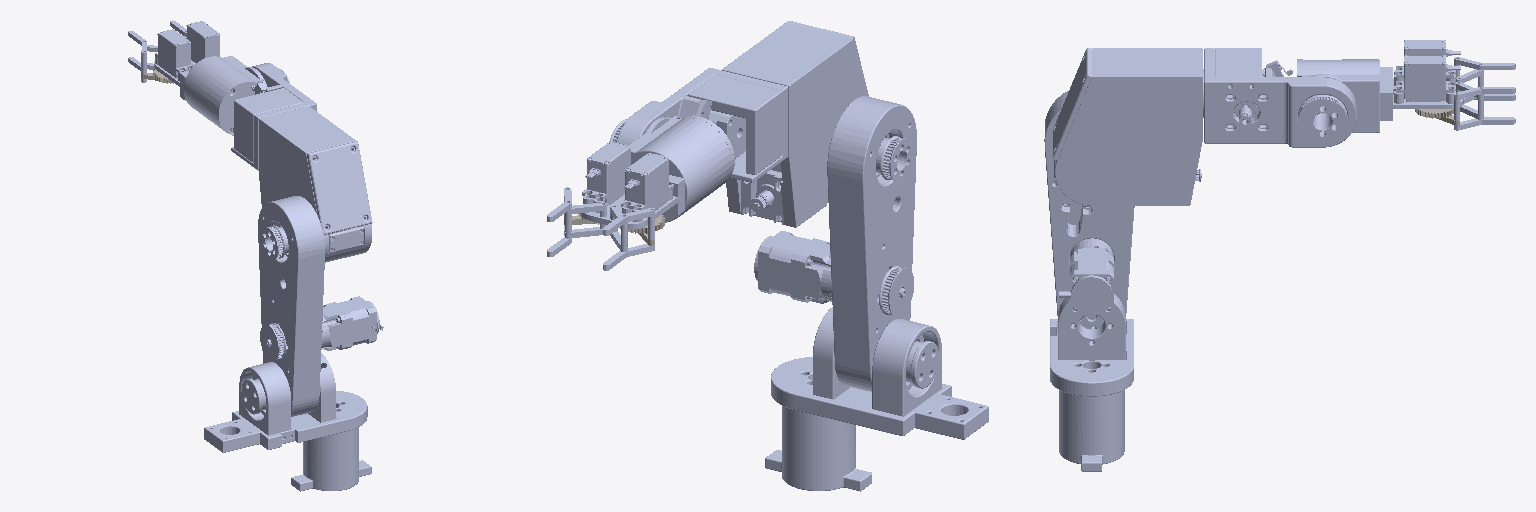
The robot description file, URDF, robot "robot_armV2.SLDASM":
<?xml version="1.0" encoding="utf-8"?>
<!-- This URDF was automatically created by SolidWorks to URDF Exporter! Originally created by [author] ([email redacted]) 
     Commit Version: 1.6.0-4-g7f85cfe  Build Version: 1.6.7995.38578
     For more information, please see http://wiki.ros.org/sw_urdf_exporter -->
<robot
  name="robot_armV2.SLDASM">
  <link
    name="base_link">
    <inertial>
      <origin
        xyz="0.046 0.01 0.0348625258959964"
        rpy="0 0 0" />
      <mass
        value="0.125732513086222" />
      <inertia
        ixx="9.31429511124145E-05"
        ixy="-1.60429614385965E-13"
        ixz="-3.2709602049349E-21"
        iyy="0.000102068899935334"
        iyz="-1.02676782451657E-20"
        izz="9.20244219404304E-05" />
    </inertial>
    <visual>
      <origin
        xyz="0 0 0"
        rpy="0 0 0" />
      <geometry>
        <mesh
          filename="package://robot_armV2.SLDASM/meshes/base_link.STL" />
      </geometry>
      <material
        name="">
        <color
          rgba="0.792156862745098 0.819607843137255 0.933333333333333 1" />
      </material>
    </visual>
    <collision>
      <origin
        xyz="0 0 0"
        rpy="0 0 0" />
      <geometry>
        <mesh
          filename="package://robot_armV2.SLDASM/meshes/base_link.STL" />
      </geometry>
    </collision>
  </link>
  <link
    name="shoulder_link">
    <inertial>
      <origin
        xyz="-0.0411620910620459 0.000253271258416538 0.0895658513453212"
        rpy="0 0 0" />
      <mass
        value="0.3347474320306" />
      <inertia
        ixx="0.000209631793443089"
        ixy="1.96063863395588E-06"
        ixz="-6.65465104917836E-07"
        iyy="0.000480802278455939"
        iyz="-4.71371433584401E-07"
        izz="0.000538877213912492" />
    </inertial>
    <visual>
      <origin
        xyz="0 0 0"
        rpy="0 0 0" />
      <geometry>
        <mesh
          filename="package://robot_armV2.SLDASM/meshes/shoulder_link.STL" />
      </geometry>
      <material
        name="">
        <color
          rgba="0.792156862745098 0.819607843137255 0.933333333333333 1" />
      </material>
    </visual>
    <collision>
      <origin
        xyz="0 0 0"
        rpy="0 0 0" />
      <geometry>
        <mesh
          filename="package://robot_armV2.SLDASM/meshes/shoulder_link.STL" />
      </geometry>
    </collision>
  </link>
  <joint
    name="shoulder_joint1"
    type="continuous">
    <origin
      xyz="0.046 0.01 -0.001"
      rpy="0 0 0" />
    <parent
      link="base_link" />
    <child
      link="shoulder_link" />
    <axis
      xyz="0 0 1" />
  </joint>
  <link
    name="upperarm_link">
    <inertial>
      <origin
        xyz="0.0562528131590313 0.000369945510000828 0.0857132446826368"
        rpy="0 0 0" />
      <mass
        value="0.74419759620129" />
      <inertia
        ixx="0.00311409210759309"
        ixy="-1.3420025229867E-06"
        ixz="-2.59179284533756E-06"
        iyy="0.00286004491912061"
        iyz="-3.65747113838536E-06"
        izz="0.000411842736380791" />
    </inertial>
    <visual>
      <origin
        xyz="0 0 0"
        rpy="0 0 0" />
      <geometry>
        <mesh
          filename="package://robot_armV2.SLDASM/meshes/upperarm_link.STL" />
      </geometry>
      <material
        name="">
        <color
          rgba="0.792156862745098 0.819607843137255 0.933333333333333 1" />
      </material>
    </visual>
    <collision>
      <origin
        xyz="0 0 0"
        rpy="0 0 0" />
      <geometry>
        <mesh
          filename="package://robot_armV2.SLDASM/meshes/upperarm_link.STL" />
      </geometry>
    </collision>
  </link>
  <joint
    name="shoulder_joint2"
    type="revolute">
    <origin
      xyz="-0.0990000000000002 -5.51050720872603E-05 0.1255"
      rpy="0 0 0" />
    <parent
      link="shoulder_link" />
    <child
      link="upperarm_link" />
    <axis
      xyz="1 0 0" />
    <limit
      lower="-1.5708"
      upper="1.5708"
      effort="1"
      velocity="1" />
  </joint>
  <link
    name="forearm_link">
    <inertial>
      <origin
        xyz="-0.0339069007034074 0.034016245127378 0.0255892821353269"
        rpy="0 0 0" />
      <mass
        value="0.827081368308497" />
      <inertia
        ixx="0.00190548295642375"
        ixy="4.02075573306254E-06"
        ixz="4.50756639926959E-06"
        iyy="0.0014340921873558"
        iyz="-0.000236684960512004"
        izz="0.00117235199608543" />
    </inertial>
    <visual>
      <origin
        xyz="0 0 0"
        rpy="0 0 0" />
      <geometry>
        <mesh
          filename="package://robot_armV2.SLDASM/meshes/forearm_link.STL" />
      </geometry>
      <material
        name="">
        <color
          rgba="0.792156862745098 0.819607843137255 0.933333333333333 1" />
      </material>
    </visual>
    <collision>
      <origin
        xyz="0 0 0"
        rpy="0 0 0" />
      <geometry>
        <mesh
          filename="package://robot_armV2.SLDASM/meshes/forearm_link.STL" />
      </geometry>
    </collision>
  </link>
  <joint
    name="elbow_joint"
    type="revolute">
    <origin
      xyz="0.1315 0 0.181727818450784"
      rpy="0 0 0" />
    <parent
      link="upperarm_link" />
    <child
      link="forearm_link" />
    <axis
      xyz="1 0 0" />
    <limit
      lower="-1.5708"
      upper="1.5708"
      effort="1"
      velocity="1" />
  </joint>
  <link
    name="wrist_turn_link">
    <inertial>
      <origin
        xyz="0.0130010242685207 0.148847986470885 0.00093400676869082"
        rpy="0 0 0" />
      <mass
        value="0.326308399182154" />
      <inertia
        ixx="0.000453076964015862"
        ixy="-8.66444178665482E-05"
        ixz="-2.22900213613411E-05"
        iyy="0.000202627386733926"
        iyz="-8.98936161112266E-06"
        izz="0.000459193821112838" />
    </inertial>
    <visual>
      <origin
        xyz="0 0 0"
        rpy="0 0 0" />
      <geometry>
        <mesh
          filename="package://robot_armV2.SLDASM/meshes/wrist_turn_link.STL" />
      </geometry>
      <material
        name="">
        <color
          rgba="0.792156862745098 0.819607843137255 0.933333333333333 1" />
      </material>
    </visual>
    <collision>
      <origin
        xyz="0 0 0"
        rpy="0 0 0" />
      <geometry>
        <mesh
          filename="package://robot_armV2.SLDASM/meshes/wrist_turn_link.STL" />
      </geometry>
    </collision>
  </link>
  <joint
    name="wrist_turn_joint"
    type="continuous">
    <origin
      xyz="-0.0325 -0.0121430516635518 0.0675"
      rpy="0 0 0" />
    <parent
      link="forearm_link" />
    <child
      link="wrist_turn_link" />
    <axis
      xyz="0 -1 0" />
  </joint>
  <link
    name="wrist_tilt_link">
    <inertial>
      <origin
        xyz="-0.0465163188756428 0.0127257186993177 -6.95422703256288E-07"
        rpy="0 0 0" />
      <mass
        value="0.246094957683812" />
      <inertia
        ixx="0.00013148982590547"
        ixy="1.01409588245576E-06"
        ixz="-4.25981717607657E-08"
        iyy="0.000127545838586352"
        iyz="4.91710427720937E-09"
        izz="0.000126513938256532" />
    </inertial>
    <visual>
      <origin
        xyz="0 0 0"
        rpy="0 0 0" />
      <geometry>
        <mesh
          filename="package://robot_armV2.SLDASM/meshes/wrist_tilt_link.STL" />
      </geometry>
      <material
        name="">
        <color
          rgba="0.792156862745098 0.819607843137255 0.933333333333333 1" />
      </material>
    </visual>
    <collision>
      <origin
        xyz="0 0 0"
        rpy="0 0 0" />
      <geometry>
        <mesh
          filename="package://robot_armV2.SLDASM/meshes/wrist_tilt_link.STL" />
      </geometry>
    </collision>
  </link>
  <joint
    name="wrist_tilt_joint"
    type="revolute">
    <origin
      xyz="0.0525 0.23103426025101 0"
      rpy="0 0 0" />
    <parent
      link="wrist_turn_link" />
    <child
      link="wrist_tilt_link" />
    <axis
      xyz="-1 0 0" />
    <limit
      lower="-2.0944"
      upper="1.5708"
      effort="1"
      velocity="1" />
  </joint>
  <link
    name="gripper_turn_link">
    <inertial>
      <origin
        xyz="2.57228580218699E-06 0.0241506872670402 0.014424198571145"
        rpy="0 0 0" />
      <mass
        value="0.108410327218271" />
      <inertia
        ixx="4.58275283057376E-05"
        ixy="4.65305857207098E-09"
        ixz="-8.36604042381948E-10"
        iyy="2.58490008803313E-05"
        iyz="-3.17004506939467E-07"
        izz="5.05752813701646E-05" />
    </inertial>
    <visual>
      <origin
        xyz="0 0 0"
        rpy="0 0 0" />
      <geometry>
        <mesh
          filename="package://robot_armV2.SLDASM/meshes/gripper_turn_link.STL" />
      </geometry>
      <material
        name="">
        <color
          rgba="0.792156862745098 0.819607843137255 0.933333333333333 1" />
      </material>
    </visual>
    <collision>
      <origin
        xyz="0 0 0"
        rpy="0 0 0" />
      <geometry>
        <mesh
          filename="package://robot_armV2.SLDASM/meshes/gripper_turn_link.STL" />
      </geometry>
    </collision>
  </link>
  <joint
    name="gripper_turn_joint"
    type="continuous">
    <origin
      xyz="-0.052084233509625 0.0664999999999997 0"
      rpy="0 0 0" />
    <parent
      link="wrist_tilt_link" />
    <child
      link="gripper_turn_link" />
    <axis
      xyz="0 1 0" />
  </joint>
  <link
    name="gripper_left_drive_arm_link">
    <inertial>
      <origin
        xyz="0.00572745126727883 -0.00535327373986971 0.0309983439291242"
        rpy="0 0 0" />
      <mass
        value="0.0398653672709471" />
      <inertia
        ixx="7.88822659937046E-06"
        ixy="1.65305823116588E-06"
        ixz="3.51515559004925E-08"
        iyy="7.73647981186332E-06"
        iyz="2.56569399621243E-08"
        izz="6.77516177604906E-06" />
    </inertial>
    <visual>
      <origin
        xyz="0 0 0"
        rpy="0 0 0" />
      <geometry>
        <mesh
          filename="package://robot_armV2.SLDASM/meshes/gripper_left_drive_arm_link.STL" />
      </geometry>
      <material
        name="">
        <color
          rgba="0.776470588235294 0.756862745098039 0.737254901960784 1" />
      </material>
    </visual>
    <collision>
      <origin
        xyz="0 0 0"
        rpy="0 0 0" />
      <geometry>
        <mesh
          filename="package://robot_armV2.SLDASM/meshes/gripper_left_drive_arm_link.STL" />
      </geometry>
    </collision>
  </link>
  <joint
    name="gripper_left_drive_arm_joint"
    type="revolute">
    <origin
      xyz="0.0184881047124418 0.0402722913625668 -0.0135499999999079"
      rpy="0 0 0" />
    <parent
      link="gripper_turn_link" />
    <child
      link="gripper_left_drive_arm_link" />
    <axis
      xyz="0 0 -1" />
    <limit
      lower="-15708"
      upper="15708"
      effort="1"
      velocity="1" />
  </joint>
  <link
    name="gripper_left_finger_link">
    <inertial>
      <origin
        xyz="-0.00944964977226048 0.0229398093296641 0.0187597694100742"
        rpy="0 0 0" />
      <mass
        value="0.00424005766628173" />
      <inertia
        ixx="9.5999704178659E-07"
        ixy="2.15828932738593E-07"
        ixz="-2.18505541020691E-24"
        iyy="1.15064892783557E-07"
        iyz="2.67327805537615E-23"
        izz="1.00945243092395E-06" />
    </inertial>
    <visual>
      <origin
        xyz="0 0 0"
        rpy="0 0 0" />
      <geometry>
        <mesh
          filename="package://robot_armV2.SLDASM/meshes/gripper_left_finger_link.STL" />
      </geometry>
      <material
        name="">
        <color
          rgba="0.792156862745098 0.819607843137255 0.933333333333333 1" />
      </material>
    </visual>
    <collision>
      <origin
        xyz="0 0 0"
        rpy="0 0 0" />
      <geometry>
        <mesh
          filename="package://robot_armV2.SLDASM/meshes/gripper_left_finger_link.STL" />
      </geometry>
    </collision>
  </link>
  <joint
    name="gripper_left_finger_joint"
    type="revolute">
    <origin
      xyz="0.021694113337709 0.0207211352602839 -0.00500000000001855"
      rpy="0 0 0" />
    <parent
      link="gripper_left_drive_arm_link" />
    <child
      link="gripper_left_finger_link" />
    <axis
      xyz="0 0 -1" />
    <limit
      lower="-15708"
      upper="15708"
      effort="1"
      velocity="1" />
  </joint>
  <link
    name="gripper_right_drive_arm_link">
    <inertial>
      <origin
        xyz="0.0050850174980434 0.00596689837489034 0.0309983426162281"
        rpy="0 0 0" />
      <mass
        value="0.0398653672457436" />
      <inertia
        ixx="7.88823993413354E-06"
        ixy="-1.65305761638946E-06"
        ixz="-2.72418077715053E-08"
        iyy="7.73646645936332E-06"
        iyz="3.39380971984017E-08"
        izz="6.77516176896231E-06" />
    </inertial>
    <visual>
      <origin
        xyz="0 0 0"
        rpy="0 0 0" />
      <geometry>
        <mesh
          filename="package://robot_armV2.SLDASM/meshes/gripper_right_drive_arm_link.STL" />
      </geometry>
      <material
        name="">
        <color
          rgba="0.776470588235294 0.756862745098039 0.737254901960784 1" />
      </material>
    </visual>
    <collision>
      <origin
        xyz="0 0 0"
        rpy="0 0 0" />
      <geometry>
        <mesh
          filename="package://robot_armV2.SLDASM/meshes/gripper_right_drive_arm_link.STL" />
      </geometry>
    </collision>
  </link>
  <joint
    name="gripper_right_drive_arm_joint"
    type="revolute">
    <origin
      xyz="-0.0184881047119306 0.0402722913623553 -0.0135499999999926"
      rpy="0 0 0" />
    <parent
      link="gripper_turn_link" />
    <child
      link="gripper_right_drive_arm_link" />
    <axis
      xyz="0 0 -1" />
    <limit
      lower="-15708"
      upper="15708"
      effort="1"
      velocity="1" />
  </joint>
  <link
    name="gripper_right_finger_link">
    <inertial>
      <origin
        xyz="0.00944964977288004 0.0229398093301211 0.0187597694102918"
        rpy="0 0 0" />
      <mass
        value="0.00424005766628173" />
      <inertia
        ixx="9.59997041786556E-07"
        ixy="-2.1582893273866E-07"
        ixz="1.25952529911048E-23"
        iyy="1.15064892783592E-07"
        iyz="1.02840970138901E-23"
        izz="1.00945243092395E-06" />
    </inertial>
    <visual>
      <origin
        xyz="0 0 0"
        rpy="0 0 0" />
      <geometry>
        <mesh
          filename="package://robot_armV2.SLDASM/meshes/gripper_right_finger_link.STL" />
      </geometry>
      <material
        name="">
        <color
          rgba="0.792156862745098 0.819607843137255 0.933333333333333 1" />
      </material>
    </visual>
    <collision>
      <origin
        xyz="0 0 0"
        rpy="0 0 0" />
      <geometry>
        <mesh
          filename="package://robot_armV2.SLDASM/meshes/gripper_right_finger_link.STL" />
      </geometry>
    </collision>
  </link>
  <joint
    name="gripper_right_finger_joint"
    type="revolute">
    <origin
      xyz="-0.0216941133391642 0.0207211352593293 -0.00500000000024353"
      rpy="0 0 0" />
    <parent
      link="gripper_right_drive_arm_link" />
    <child
      link="gripper_right_finger_link" />
    <axis
      xyz="0 0 1" />
    <limit
      lower="-15708"
      upper="15708"
      effort="1"
      velocity="1" />
  </joint>
  <link
    name="gripper_left_support_arm_link">
    <inertial>
      <origin
        xyz="0.00965216983384645 0.00921927130978883 0.0135250000005198"
        rpy="0 0 0" />
      <mass
        value="0.00214833979343004" />
      <inertia
        ixx="1.19250126835757E-07"
        ixy="-1.06343430327574E-07"
        ixz="7.19647132921134E-23"
        iyy="1.29013059345702E-07"
        iyz="6.78288102293483E-23"
        izz="2.26137406929615E-07" />
    </inertial>
    <visual>
      <origin
        xyz="0 0 0"
        rpy="0 0 0" />
      <geometry>
        <mesh
          filename="package://robot_armV2.SLDASM/meshes/gripper_left_support_arm_link.STL" />
      </geometry>
      <material
        name="">
        <color
          rgba="0.792156862745098 0.819607843137255 0.933333333333333 1" />
      </material>
    </visual>
    <collision>
      <origin
        xyz="0 0 0"
        rpy="0 0 0" />
      <geometry>
        <mesh
          filename="package://robot_armV2.SLDASM/meshes/gripper_left_support_arm_link.STL" />
      </geometry>
    </collision>
  </link>
  <joint
    name="gripper_left_support_arm_joint"
    type="revolute">
    <origin
      xyz="0.005 0.0625 -0.01355"
      rpy="0 0 0" />
    <parent
      link="gripper_turn_link" />
    <child
      link="gripper_left_support_arm_link" />
    <axis
      xyz="0 0 1" />
    <limit
      lower="0"
      upper="0"
      effort="0"
      velocity="0" />
    <mimic
      joint="gripper_left_finger_joint"
      multiplier="1"
      offset="0" />
  </joint>
  <link
    name="gripper_right_support_arm_link">
    <inertial>
      <origin
        xyz="-0.00965216983379519 0.0092192713084982 0.0135249999991228"
        rpy="0 0 0" />
      <mass
        value="0.00214833979343004" />
      <inertia
        ixx="1.19250126831771E-07"
        ixy="1.06343430327391E-07"
        ixz="1.29040175558272E-22"
        iyy="1.29013059349687E-07"
        iyz="-1.3400325923359E-22"
        izz="2.26137406929615E-07" />
    </inertial>
    <visual>
      <origin
        xyz="0 0 0"
        rpy="0 0 0" />
      <geometry>
        <mesh
          filename="package://robot_armV2.SLDASM/meshes/gripper_right_support_arm_link.STL" />
      </geometry>
      <material
        name="">
        <color
          rgba="0.792156862745098 0.819607843137255 0.933333333333333 1" />
      </material>
    </visual>
    <collision>
      <origin
        xyz="0 0 0"
        rpy="0 0 0" />
      <geometry>
        <mesh
          filename="package://robot_armV2.SLDASM/meshes/gripper_right_support_arm_link.STL" />
      </geometry>
    </collision>
  </link>
  <joint
    name="gripper_right_support_arm_joint"
    type="revolute">
    <origin
      xyz="-0.005 0.0625 -0.01355"
      rpy="0 0 0" />
    <parent
      link="gripper_turn_link" />
    <child
      link="gripper_right_support_arm_link" />
    <axis
      xyz="0 0 1" />
    <limit
      lower="0"
      upper="0"
      effort="0"
      velocity="0" />
    <mimic
      joint="gripper_right_finger_joint"
      multiplier="1"
      offset="0" />
  </joint>
</robot>

--- Render facts (derived) ---
The picture shows the robot from 3 angles, left to right: view 1: azimuth 30°, elevation 25°; view 2: azimuth 150°, elevation 25°; view 3: azimuth 270°, elevation 25°; orthographic projection.
Robot: robot_armV2.SLDASM — 13 links, 12 joints (9 revolute, 3 continuous); root link base_link; default pose: every joint at zero.
Visible links, largest first — view 1: upperarm_link, forearm_link, shoulder_link, wrist_tilt_link, wrist_turn_link, base_link, gripper_turn_link; view 2: upperarm_link, forearm_link, shoulder_link, wrist_turn_link, base_link, gripper_turn_link, wrist_tilt_link, gripper_right_finger_link, gripper_left_finger_link, gripper_left_support_arm_link; view 3: forearm_link, wrist_turn_link, upperarm_link, shoulder_link, wrist_tilt_link, base_link, gripper_turn_link, gripper_left_finger_link, gripper_right_finger_link.
Boxes of the visible links, x1,y1,x2,y2 form: upperarm_link: (242, 196, 383, 416); forearm_link: (259, 106, 372, 262); shoulder_link: (204, 353, 367, 452); wrist_tilt_link: (184, 56, 289, 135); wrist_turn_link: (231, 63, 317, 170); base_link: (291, 427, 371, 491); gripper_turn_link: (154, 21, 219, 100); upperarm_link: (754, 96, 938, 391); forearm_link: (722, 21, 912, 227); shoulder_link: (771, 307, 988, 439); wrist_turn_link: (616, 68, 787, 182); base_link: (765, 406, 871, 491); gripper_turn_link: (581, 142, 684, 229); wrist_tilt_link: (609, 116, 734, 222); gripper_right_finger_link: (603, 208, 654, 270); gripper_left_finger_link: (547, 187, 571, 256); gripper_left_support_arm_link: (565, 202, 606, 238); forearm_link: (1053, 48, 1202, 205); wrist_turn_link: (1203, 48, 1356, 147); upperarm_link: (1044, 91, 1134, 329); shoulder_link: (1050, 294, 1133, 396); wrist_tilt_link: (1297, 59, 1379, 143); base_link: (1059, 390, 1124, 471); gripper_turn_link: (1380, 40, 1463, 120); gripper_left_finger_link: (1454, 87, 1515, 130); gripper_right_finger_link: (1454, 57, 1515, 100).
Size in the robot's own frame: 0.2145 by 0.4466 by 0.4192 metres.
Meshes: 13 distinct files referenced, 13 mesh visuals loaded (13 binary STL).